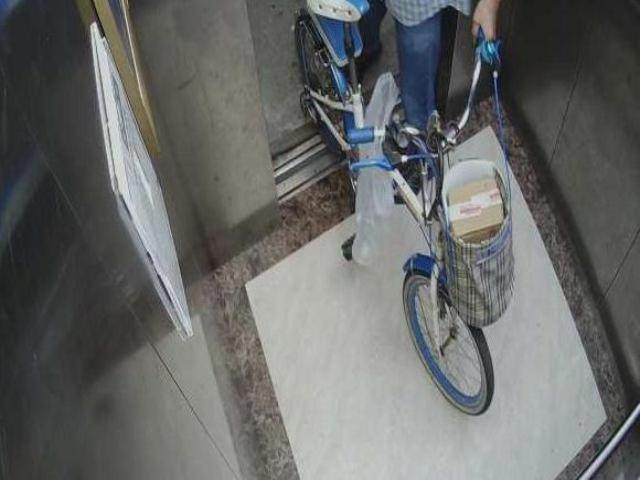bicycle: (290, 23, 512, 418)
